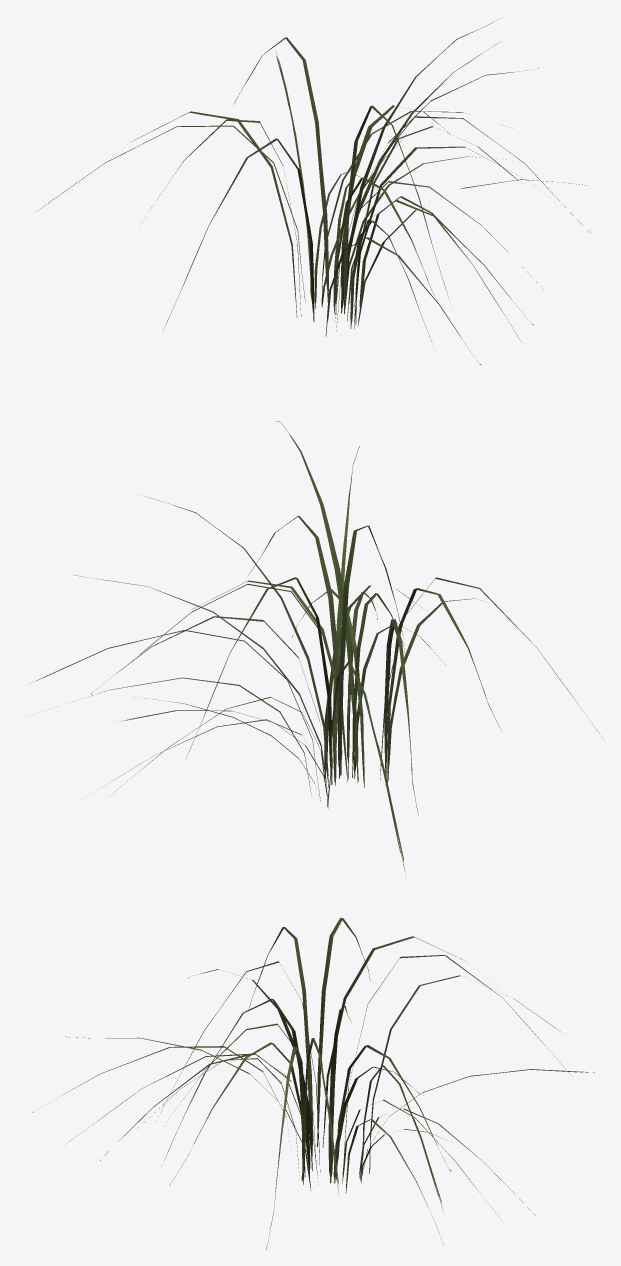
The model's file is wild_leafy_b.glb.
3 views of the same model, one above another, from view 1: azimuth 30°, elevation 25°; view 2: azimuth 150°, elevation 25°; view 3: azimuth 270°, elevation 25° (orthographic). The views are drawn at different scales.
Visible parts, largest first — view 1: wild_leafy_b; view 2: wild_leafy_b; view 3: wild_leafy_b.
Boxes of the visible parts, x1=… form: wild_leafy_b: x1=36, y1=18, x2=589, y2=364; wild_leafy_b: x1=30, y1=421, x2=601, y2=876; wild_leafy_b: x1=33, y1=917, x2=594, y2=1250.
Size of the model in its own units: 0.3825 by 0.2194 by 0.4287.
1 material, 1 textured.
